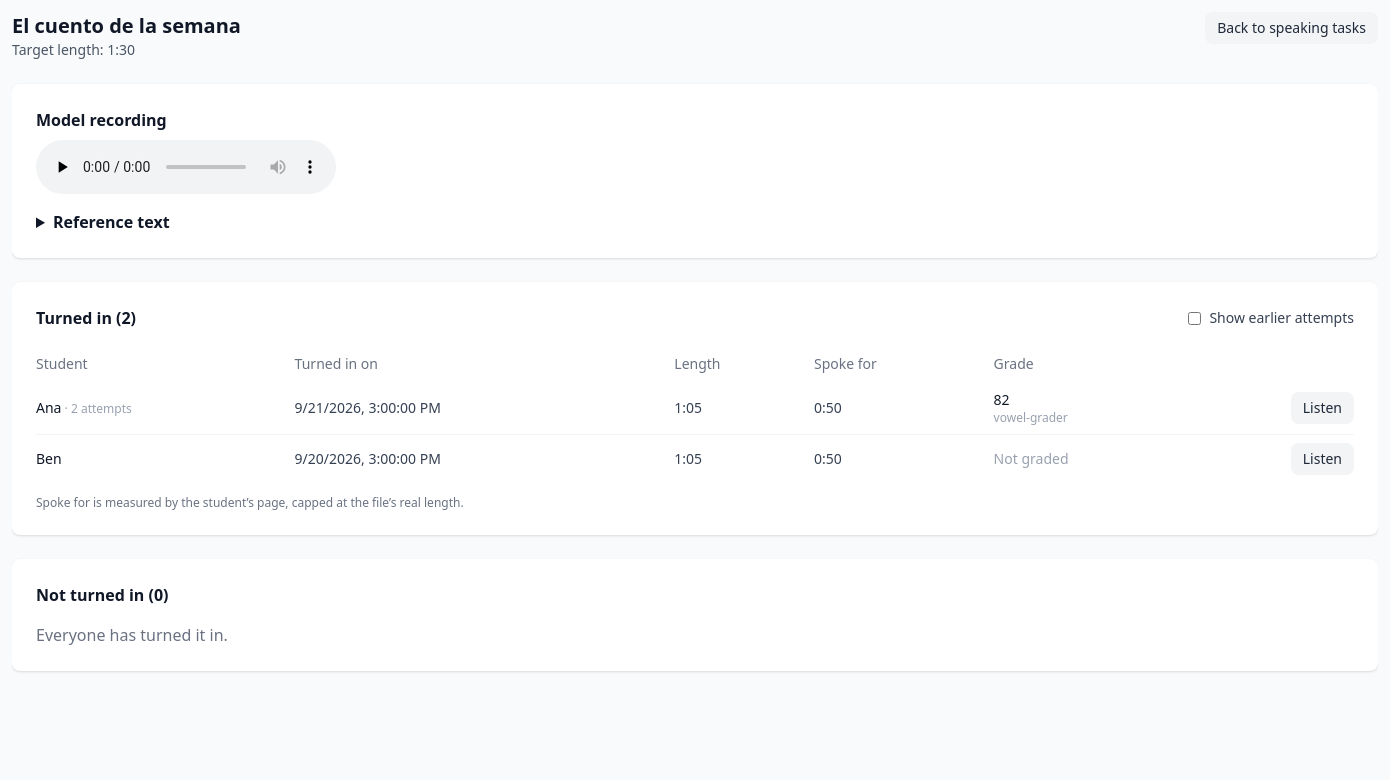
Test: SpeakingReview › shows the latest recording per student, and earlier ones on request
expect the row that starts with "Ana" is shown: met, box [36,398,62,417]
expect the row that starts with "Ana" shows "2 attempts": met, box [71,400,132,417]
Click the checkbox labelled "Show earlier attempts" at (1195, 318), box [1188,312,1201,324]
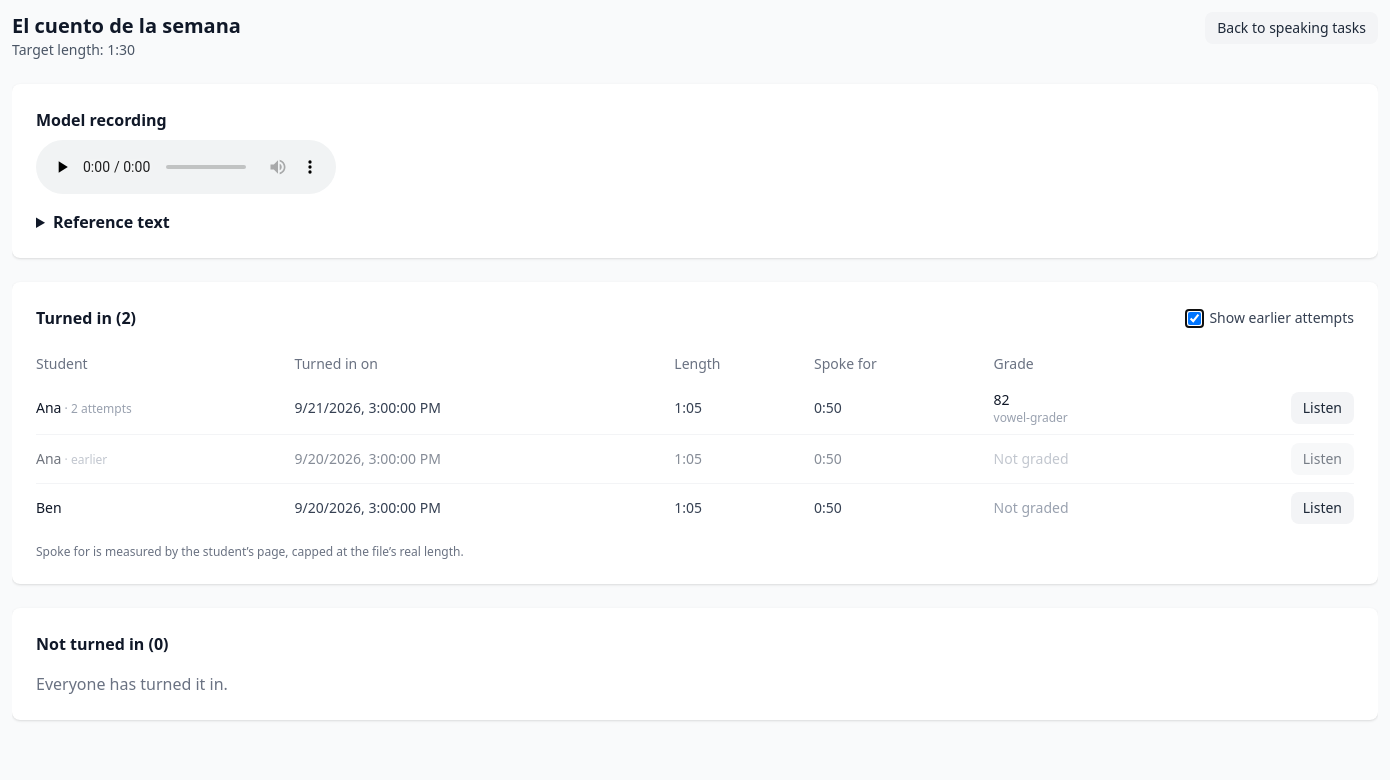
expect the 3rd row shows "Ana · earlier": met, box [36,434,1354,484]
